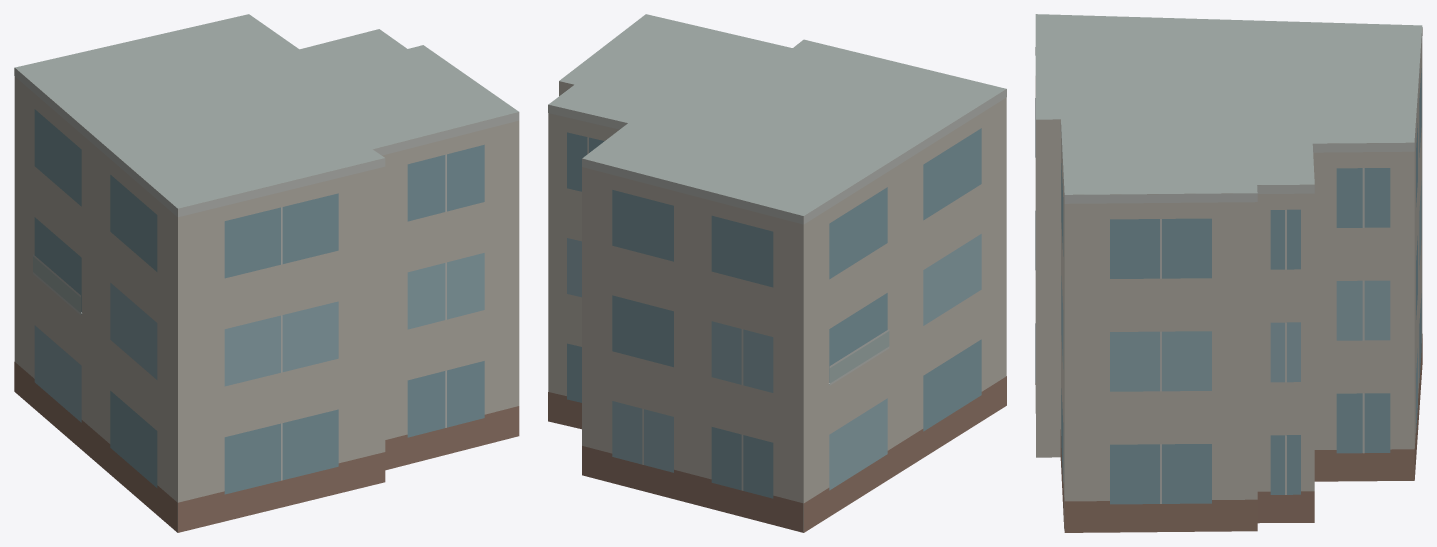
Rendered from survey-upis-32943086.glb.
3 renders of one model, left to right at view 1: azimuth 30°, elevation 25°; view 2: azimuth 150°, elevation 25°; view 3: azimuth 270°, elevation 25°, orthographic. The views are drawn at different scales.
Visible parts, largest first — view 1: survey-upis-32943086.tmp; view 2: survey-upis-32943086.tmp; view 3: survey-upis-32943086.tmp.
Boxes of the visible parts, box(x1,y1,x2,y2) form: survey-upis-32943086.tmp: box(14, 14, 519, 532); survey-upis-32943086.tmp: box(548, 14, 1006, 532); survey-upis-32943086.tmp: box(1035, 14, 1422, 532).
Bounding box in the file's own units: 10.51 × 9.15 × 9.5.
